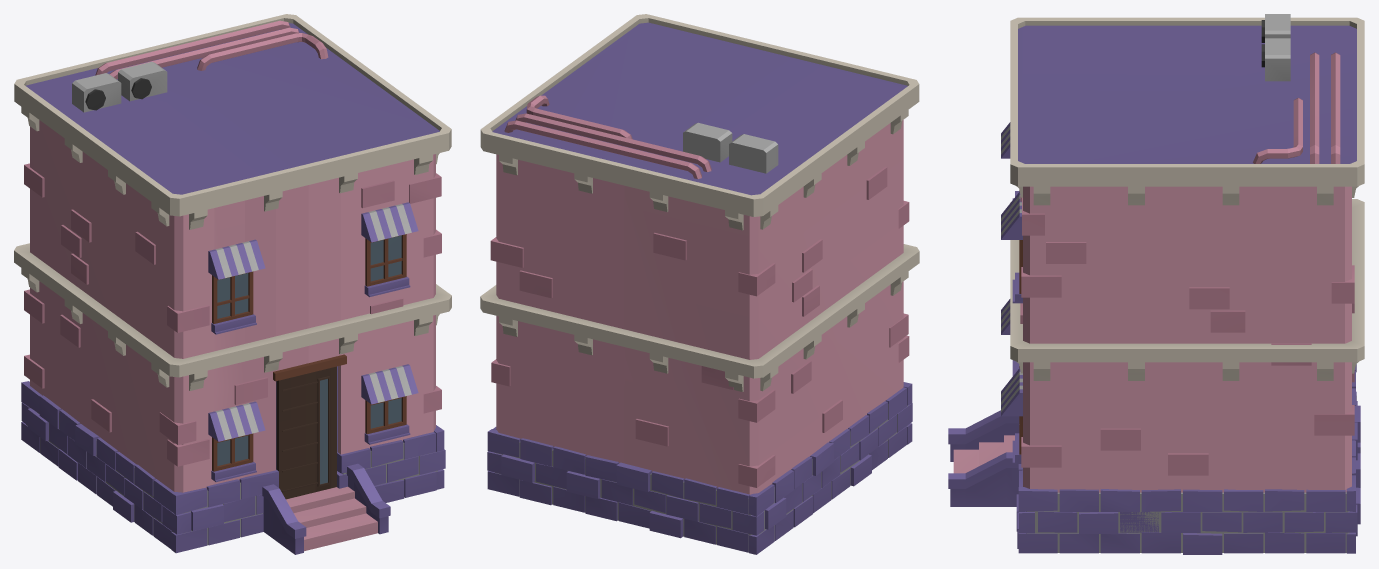
File: house-1.glb
3 views of the same model, side by side, from view 1: azimuth 30°, elevation 25°; view 2: azimuth 150°, elevation 25°; view 3: azimuth 270°, elevation 25° (orthographic). The views are drawn at different scales.
Visible parts, largest first — view 1: house-1; view 2: house-1; view 3: house-1.
Boxes of the visible parts, x1,y1,x2,y2 form: house-1: [14, 14, 451, 554]; house-1: [480, 14, 919, 554]; house-1: [948, 14, 1364, 554].
Size of the model in its own units: 5.97 by 7.59 by 7.
